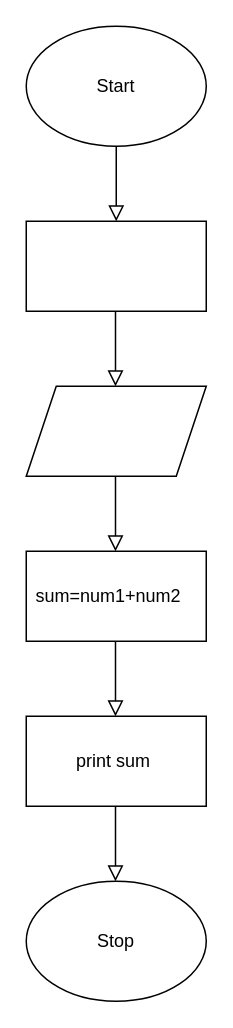
This 233x1028 diagram has some shape labels left out. Each missing label, with the centre of its shape:
"declare variable num1,num2,sum" belongs at point (115, 265).
"get input for num1,num2" belongs at point (115, 430).
